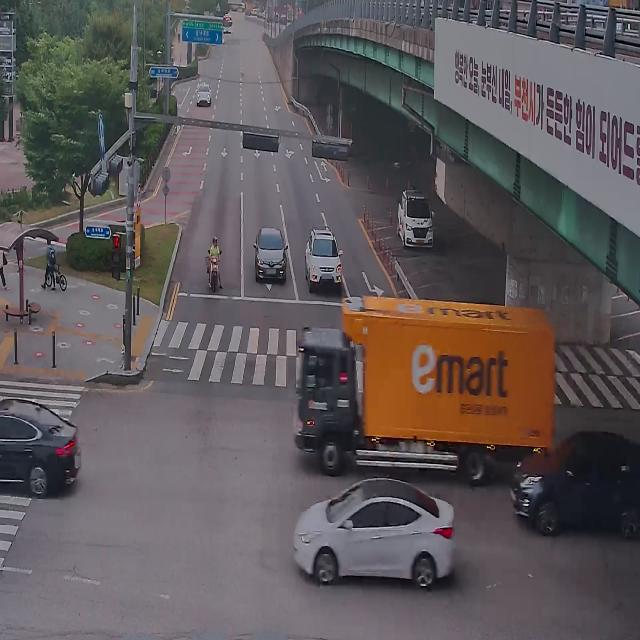Bus: (222, 8, 236, 39)
Car: (292, 476, 456, 590), (510, 429, 640, 538), (0, 396, 81, 498), (305, 225, 343, 292), (397, 188, 434, 248), (253, 226, 287, 282), (196, 81, 211, 106)
Motorcycle: (205, 236, 223, 296)
Truck: (292, 289, 559, 491)
